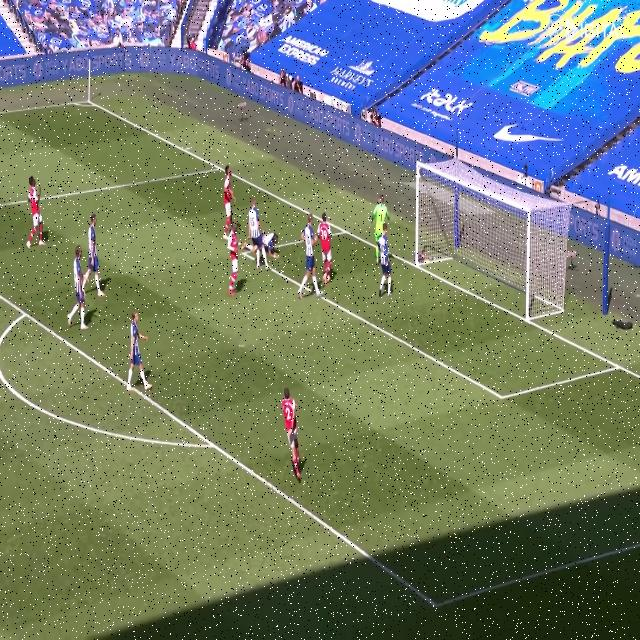GoalKeeper: (368, 192, 395, 266)
TEAM 1: (20, 167, 50, 255), (278, 385, 302, 485), (222, 222, 244, 299), (318, 210, 335, 288), (221, 164, 239, 234)
TEAM 2: (124, 308, 156, 395), (247, 196, 281, 272), (298, 210, 322, 306), (84, 208, 107, 296), (66, 242, 88, 333), (371, 225, 394, 298)
